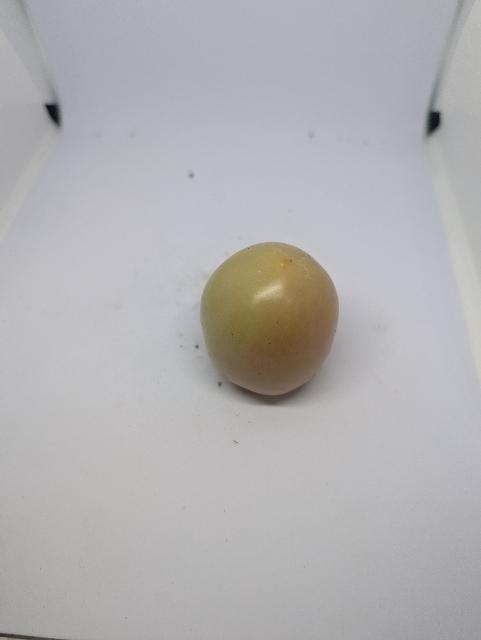breaker: (197, 241, 342, 401)
